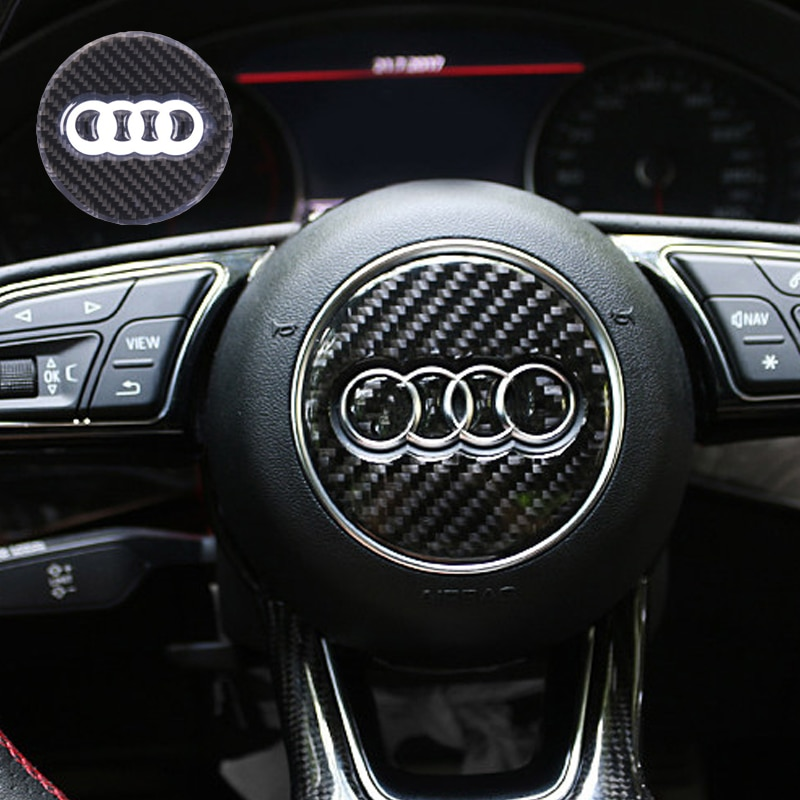audi: (329, 349, 586, 472)
